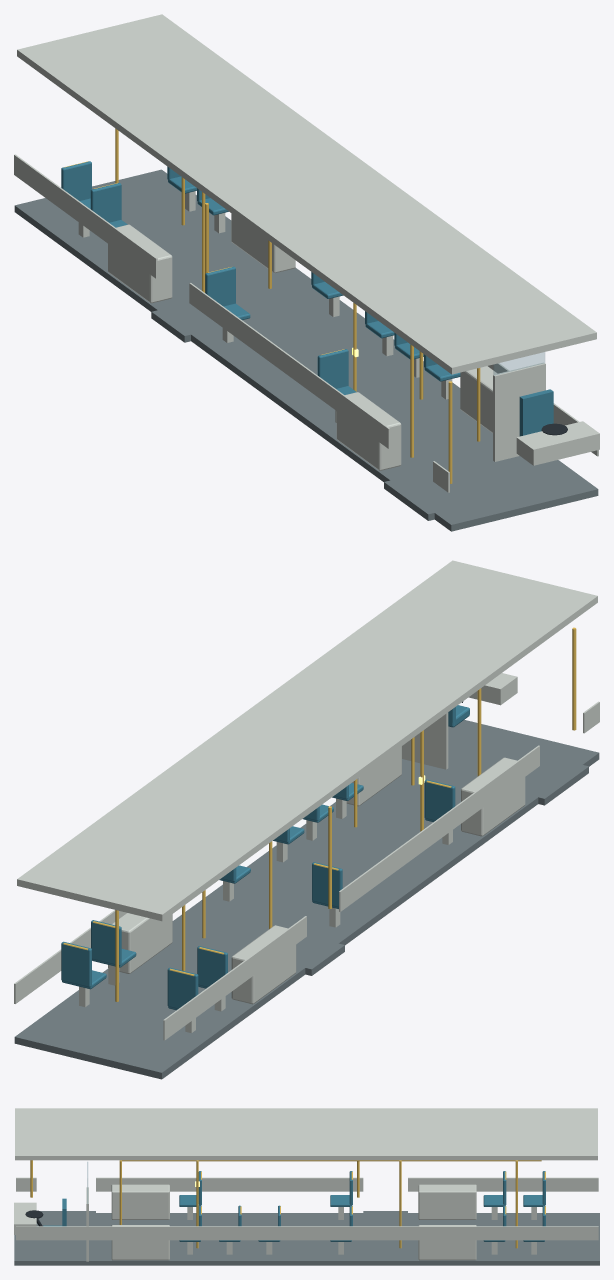
File: city-bus-12m-interior.lod0.glb
3 views of the same model, one above another, from view 1: azimuth 30°, elevation 25°; view 2: azimuth 150°, elevation 25°; view 3: azimuth 270°, elevation 25° (orthographic). The views are drawn at different scales.
Parts seen in each view (by area): view 1: interior-batch-panel, interior-batch-floor, interior-batch-seat, interior-batch-rail; view 2: interior-batch-panel, interior-batch-floor, interior-batch-seat, interior-batch-rail; view 3: interior-batch-panel, interior-batch-floor, interior-batch-seat, interior-batch-rail.
Boxes of the visible parts, x1,y1,x2,y2 form: interior-batch-panel: [14, 14, 599, 492]; interior-batch-floor: [14, 169, 598, 531]; interior-batch-seat: [61, 161, 553, 436]; interior-batch-rail: [64, 128, 480, 483]; interior-batch-panel: [14, 560, 599, 1040]; interior-batch-floor: [14, 720, 599, 1079]; interior-batch-seat: [61, 705, 469, 1010]; interior-batch-rail: [63, 627, 576, 1001]; interior-batch-panel: [14, 1108, 598, 1261]; interior-batch-floor: [14, 1211, 599, 1265]; interior-batch-seat: [43, 1171, 545, 1241]; interior-batch-rail: [30, 1160, 545, 1248].
Size of the model in its own units: 2.43 by 2.44 by 11.84.
